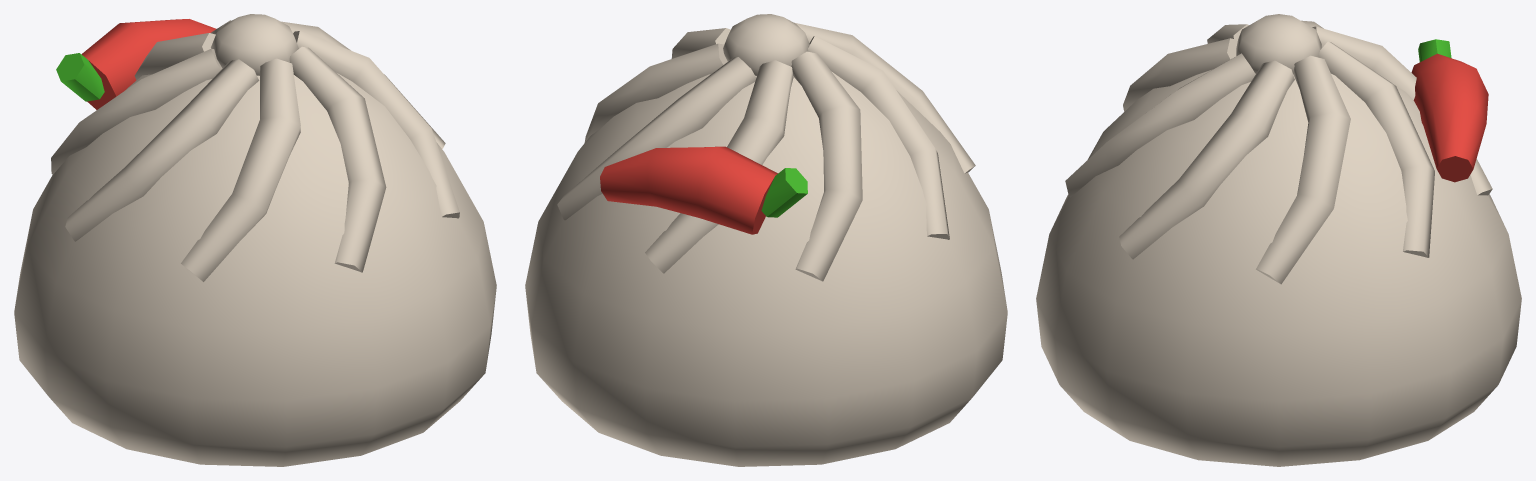
File: Food_spicy_bun.glb
3 renders of one model, left to right at view 1: azimuth 30°, elevation 25°; view 2: azimuth 150°, elevation 25°; view 3: azimuth 270°, elevation 25°, orthographic.
Visible parts, largest first — view 1: Dough_FFF1DE, Chilli_E0453C, Stem_46B82C; view 2: Dough_FFF1DE, Chilli_E0453C, Stem_46B82C; view 3: Dough_FFF1DE, Chilli_E0453C, Stem_46B82C.
Boxes of the visible parts, <box> form: Dough_FFF1DE: <box>14,14,496,466</box>; Chilli_E0453C: <box>81,19,216,109</box>; Stem_46B82C: <box>56,53,104,101</box>; Dough_FFF1DE: <box>525,14,1007,466</box>; Chilli_E0453C: <box>600,146,777,234</box>; Stem_46B82C: <box>761,168,807,217</box>; Dough_FFF1DE: <box>1036,14,1521,466</box>; Chilli_E0453C: <box>1411,53,1488,182</box>; Stem_46B82C: <box>1418,39,1451,61</box>.
Bounding box in the file's own units: 1.84 × 1.5 × 1.84.
